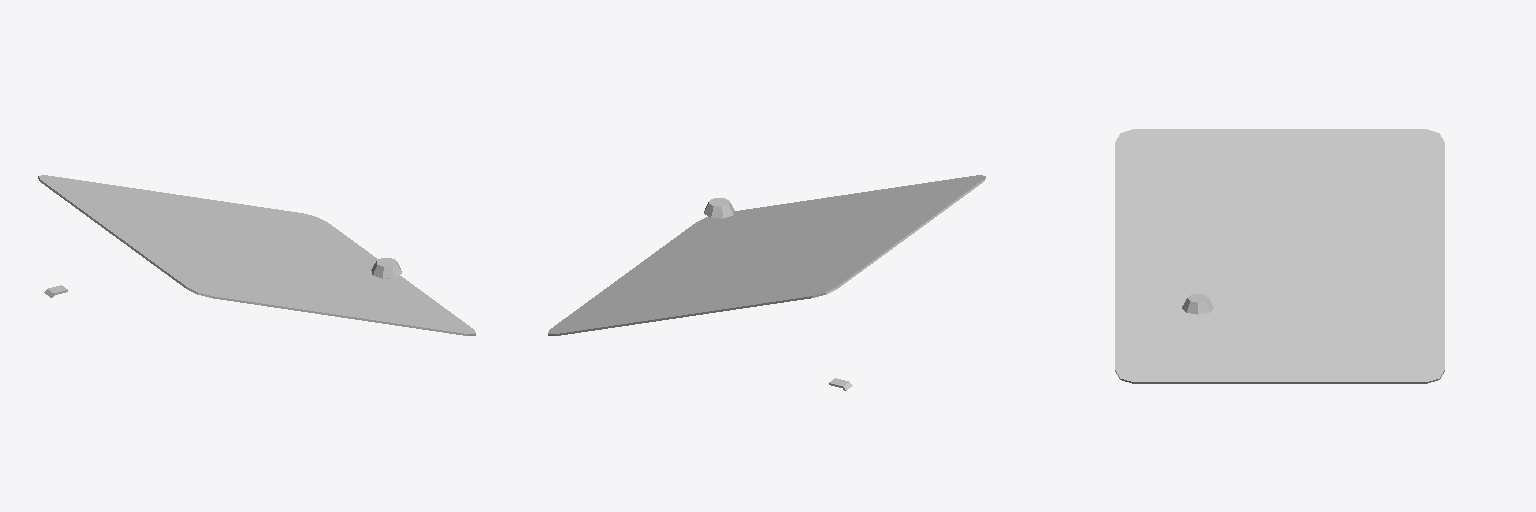
File: building-type-k_roof.obj
3 views of the same model, side by side, from view 1: azimuth 30°, elevation 25°; view 2: azimuth 150°, elevation 25°; view 3: azimuth 270°, elevation 25° (orthographic).
Visible parts, largest first — view 1: building-type-k.001; view 2: building-type-k.001; view 3: building-type-k.001.
Boxes of the visible parts, box(x1,y1,x2,y2) form: building-type-k.001: box(38, 175, 475, 335); building-type-k.001: box(548, 175, 985, 390); building-type-k.001: box(1115, 129, 1444, 383).
Size of the model in its own units: 0.9133 by 0.3447 by 0.9.